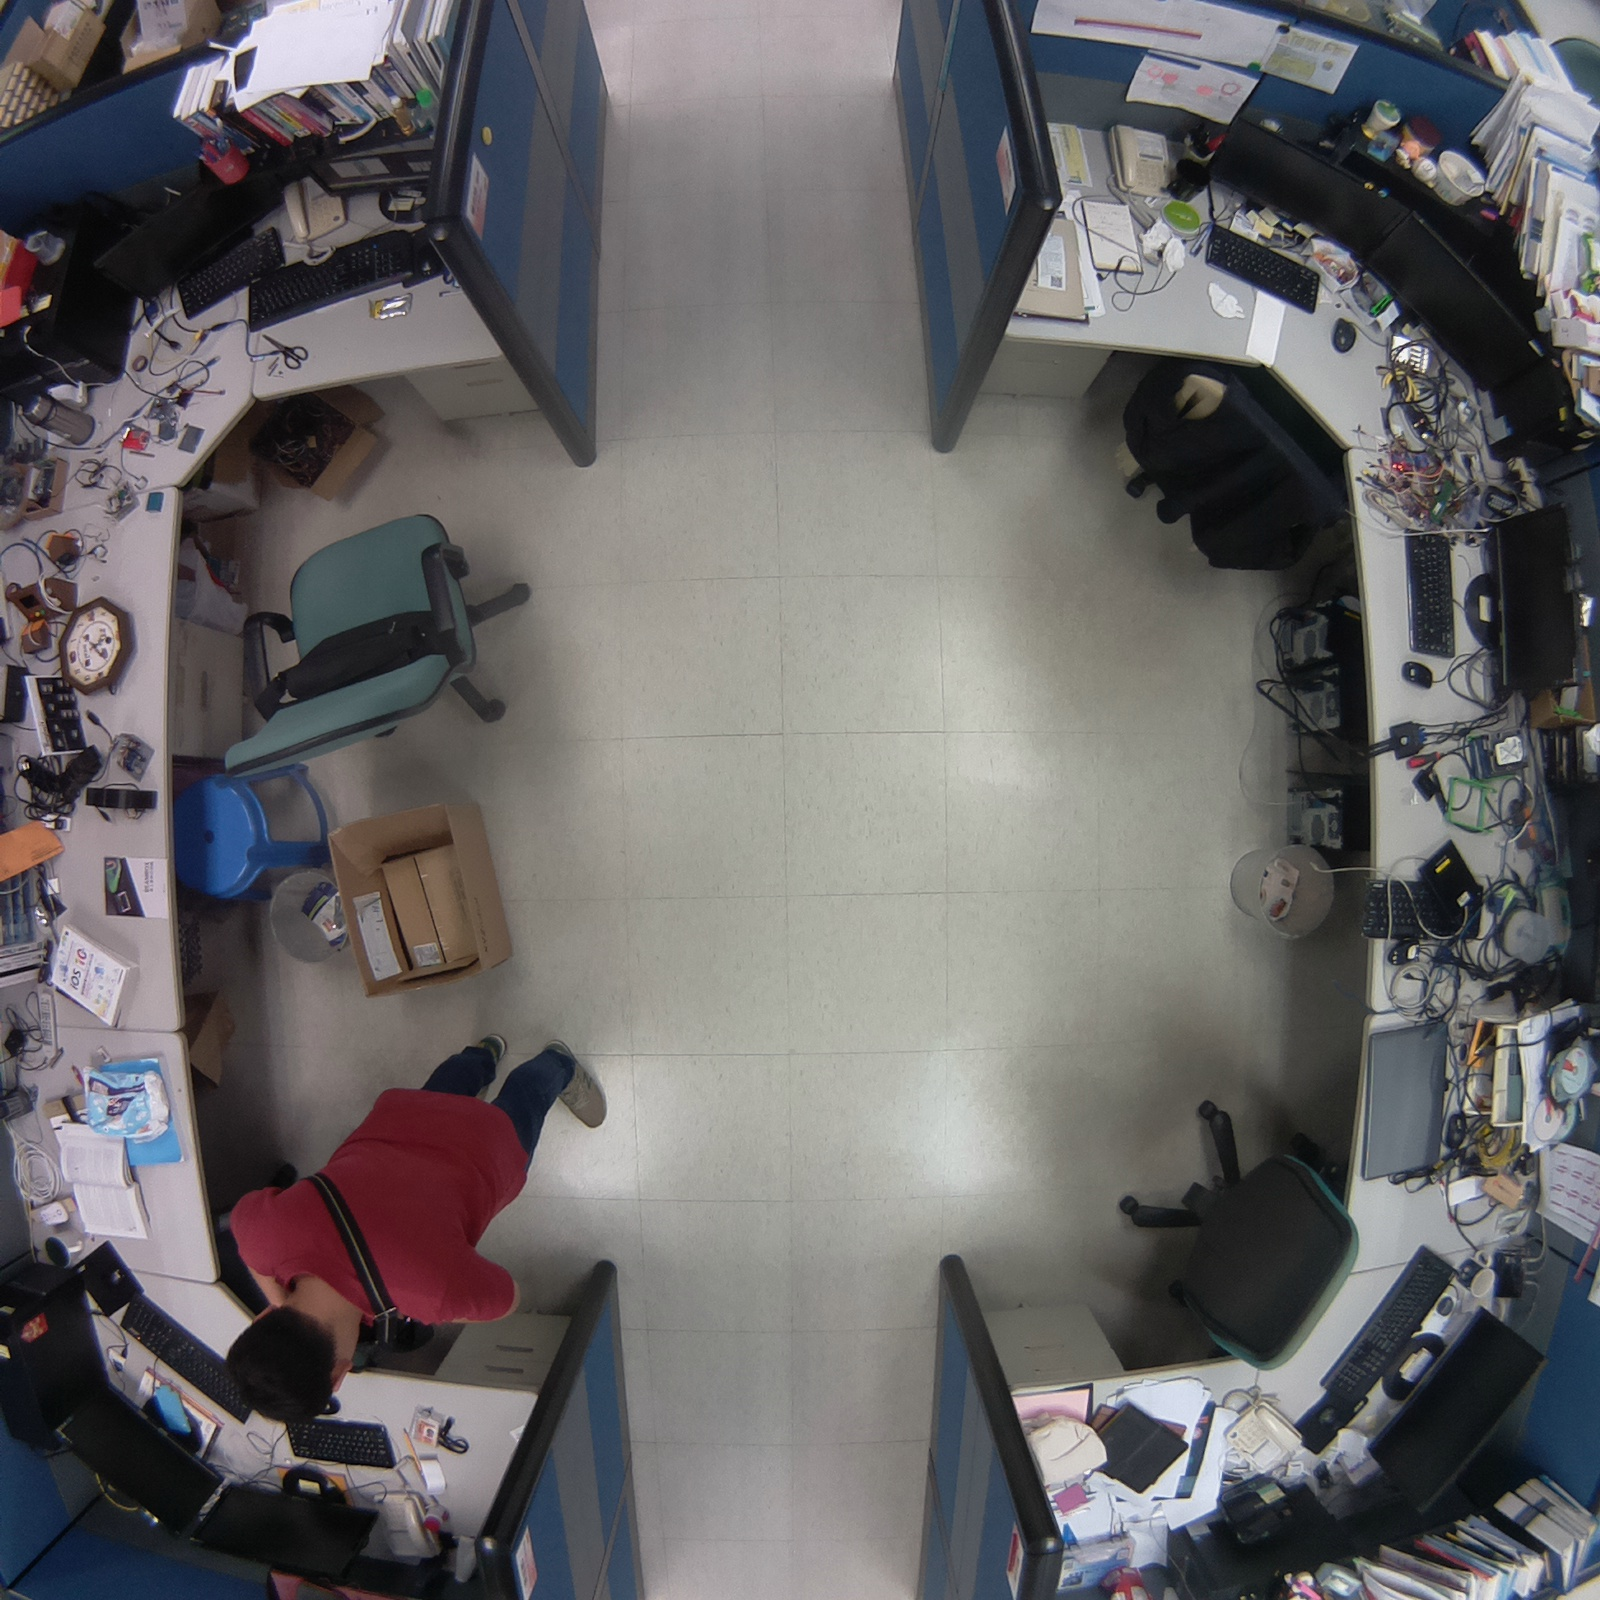chair: (212, 493, 535, 791), (1106, 1083, 1373, 1386), (1094, 327, 1368, 591)
head: (219, 1288, 370, 1431)
standing: (202, 1027, 622, 1434)
